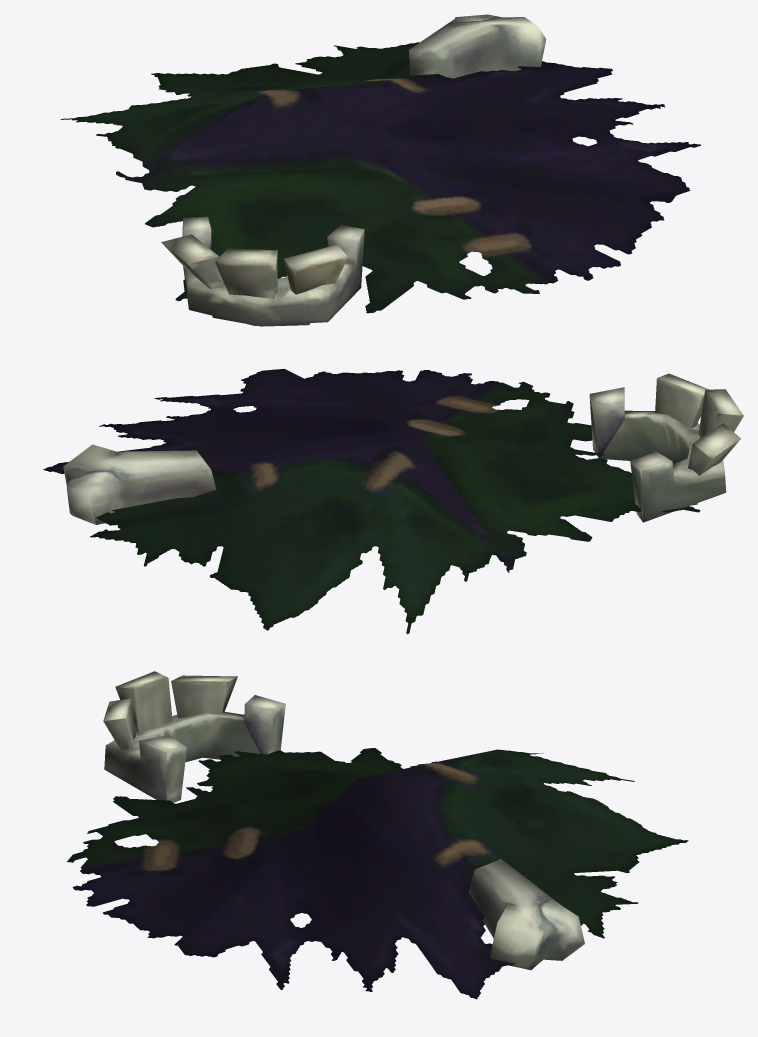
The model's file is lava_scraps_01.fbx.
3 views of the same model, one above another, from view 1: azimuth 30°, elevation 25°; view 2: azimuth 150°, elevation 25°; view 3: azimuth 270°, elevation 25° (orthographic). The views are drawn at different scales.
Visible parts, largest first — view 1: lava_scraps_01; view 2: lava_scraps_01; view 3: lava_scraps_01.
Part boxes in pixels (bbox=[...]): lava_scraps_01: bbox=[60, 14, 700, 326]; lava_scraps_01: bbox=[43, 368, 743, 634]; lava_scraps_01: bbox=[67, 671, 688, 999].
Size of the model in its own units: 2.06 by 0.276 by 2.1.
